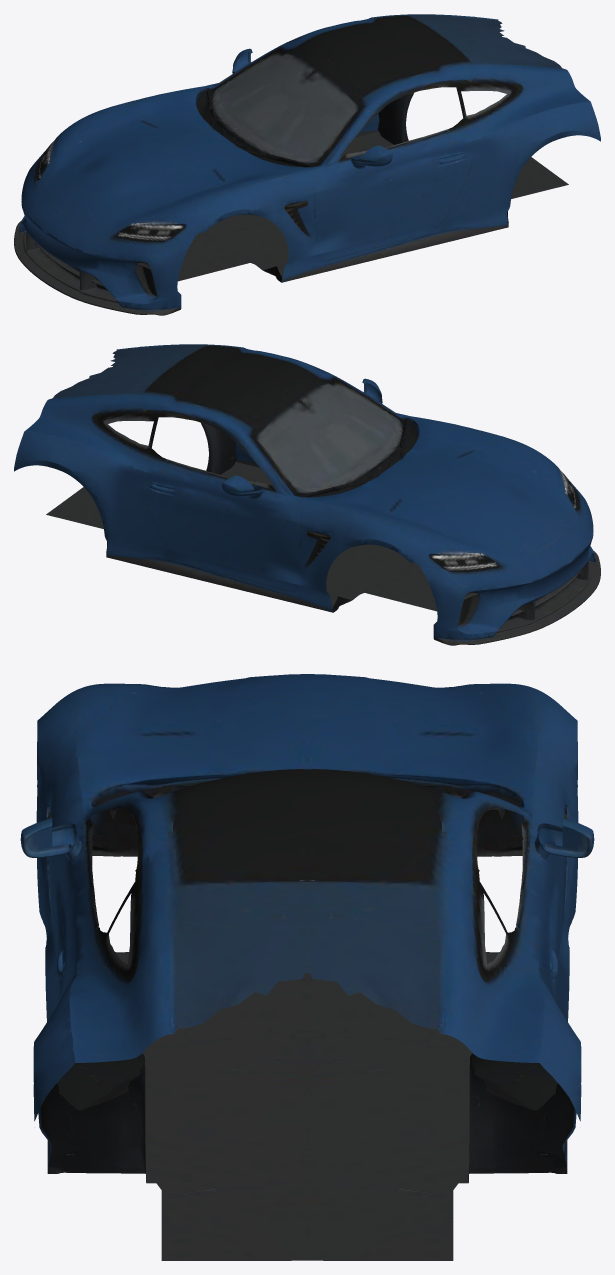
The model's file is meshy-blue-velocity-shell-prepared-r54-v1.glb.
3 views of the same model, one above another, from view 1: azimuth 30°, elevation 25°; view 2: azimuth 150°, elevation 25°; view 3: azimuth 270°, elevation 25° (orthographic). The views are drawn at different scales.
Bounding box in the file's own units: 1.64 × 0.487 × 0.8246.
Materials: 1 (1 with a texture image).
